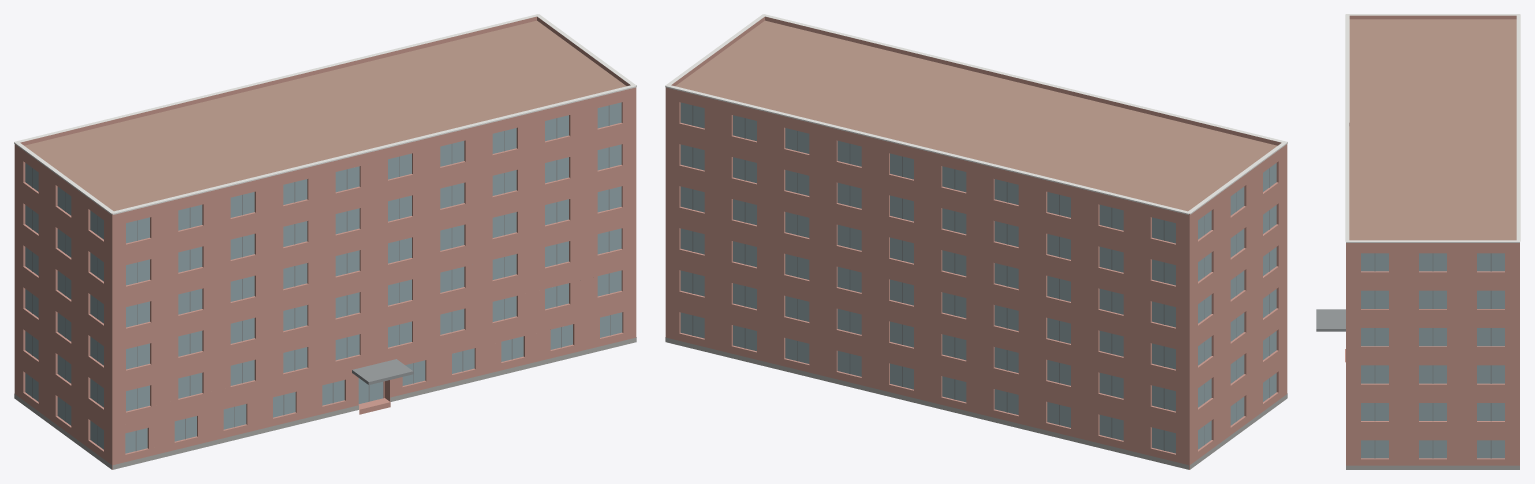
The picture shows the model from 3 angles, left to right: view 1: azimuth 30°, elevation 25°; view 2: azimuth 150°, elevation 25°; view 3: azimuth 270°, elevation 25°; orthographic projection. The views are drawn at different scales.
Parts seen in each view (by area): view 1: b743648659__wall, b743648659__roof, b743648659__glass, b743648659__parapet, b743648659__trim, b743648659__base, b743648659__frame, b743648659__canopy; view 2: b743648659__wall, b743648659__roof, b743648659__glass, b743648659__parapet, b743648659__trim, b743648659__base, b743648659__frame; view 3: b743648659__roof, b743648659__wall, b743648659__glass, b743648659__trim, b743648659__parapet, b743648659__base, b743648659__canopy, b743648659__frame.
Boxes of the visible parts, <box> form: b743648659__wall: <box>14,90,636,469</box>; b743648659__roof: <box>24,20,626,211</box>; b743648659__glass: <box>25,102,622,453</box>; b743648659__parapet: <box>14,16,636,217</box>; b743648659__trim: <box>14,14,636,214</box>; b743648659__base: <box>14,337,636,469</box>; b743648659__frame: <box>32,105,610,451</box>; b743648659__canopy: <box>352,359,413,384</box>; b743648659__wall: <box>665,90,1287,469</box>; b743648659__roof: <box>675,20,1277,211</box>; b743648659__glass: <box>680,102,1276,453</box>; b743648659__parapet: <box>665,16,1287,217</box>; b743648659__trim: <box>665,14,1287,214</box>; b743648659__base: <box>665,337,1287,469</box>; b743648659__frame: <box>692,105,1269,450</box>; b743648659__roof: <box>1349,19,1516,240</box>; b743648659__wall: <box>1346,245,1519,465</box>; b743648659__glass: <box>1361,253,1504,458</box>; b743648659__trim: <box>1345,14,1520,242</box>; b743648659__parapet: <box>1346,15,1519,245</box>; b743648659__base: <box>1346,465,1519,469</box>; b743648659__canopy: <box>1316,309,1345,331</box>; b743648659__frame: <box>1374,253,1491,458</box>.
Size of the model in its own units: 47.1 by 22.35 by 17.84.
